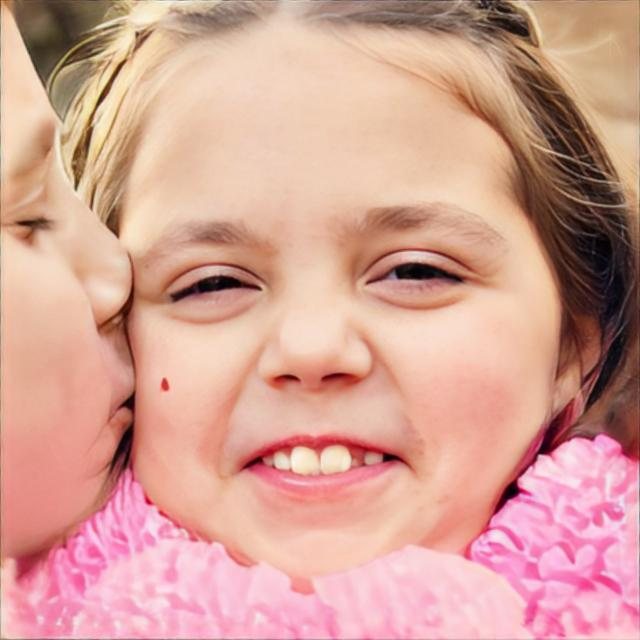disgust: (119, 18, 562, 596)
